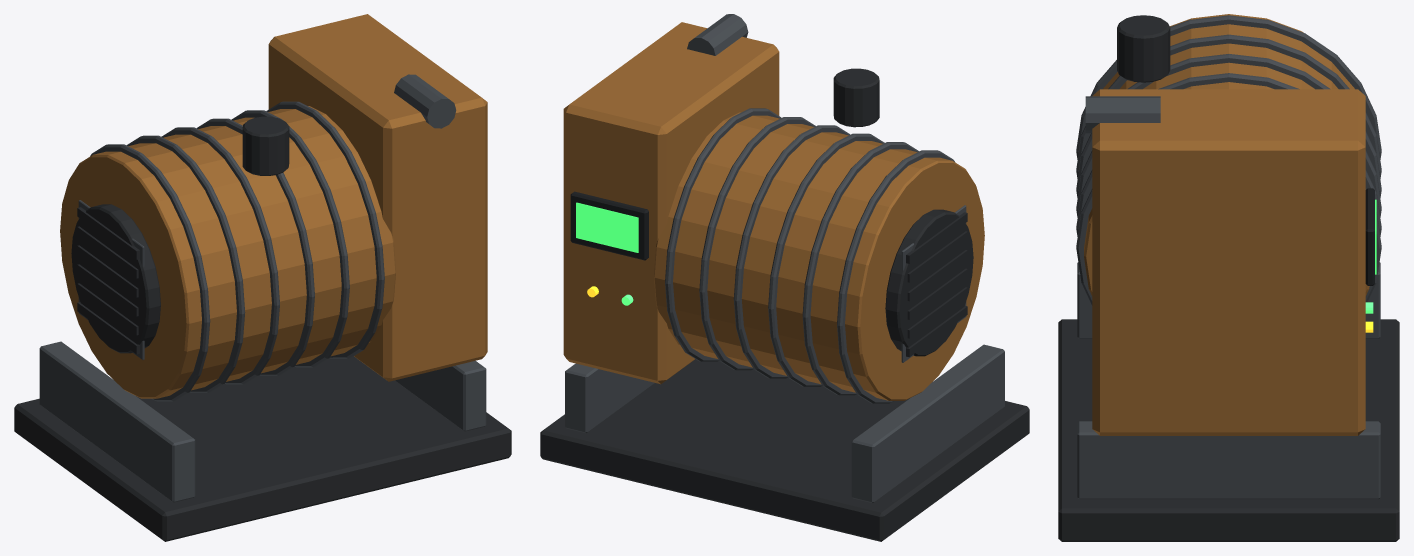
File: gas_generator.glb
The picture shows the model from 3 angles, left to right: view 1: azimuth 30°, elevation 25°; view 2: azimuth 150°, elevation 25°; view 3: azimuth 270°, elevation 25°; orthographic projection. The views are drawn at different scales.
Parts seen in each view (by area): view 1: gas_generator; view 2: gas_generator; view 3: gas_generator.
Part boxes in pixels (box(x1,y1,x2,y2)): gas_generator: box(14, 14, 511, 541); gas_generator: box(540, 14, 1029, 541); gas_generator: box(1058, 14, 1399, 541).
Bounding box in the file's own units: 1.2 × 1.2 × 0.9.
